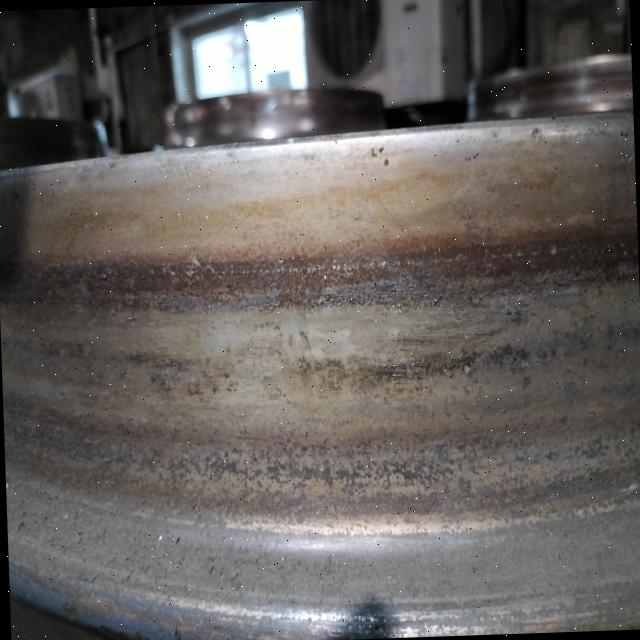Blue hole: (368, 143, 398, 178), (165, 614, 188, 640)
flat: (253, 253, 541, 404)
